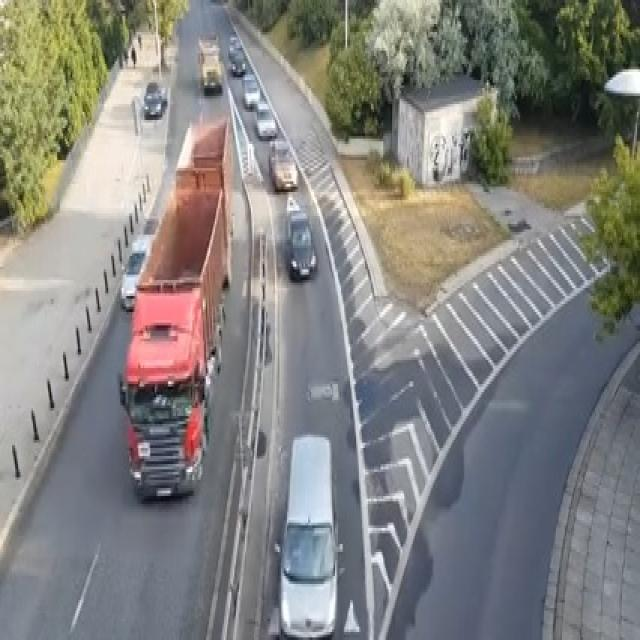car: (275, 432, 339, 637), (119, 232, 153, 309), (284, 208, 315, 280), (268, 139, 298, 192), (142, 80, 166, 117), (254, 98, 276, 138), (242, 72, 260, 107), (230, 50, 245, 74)
